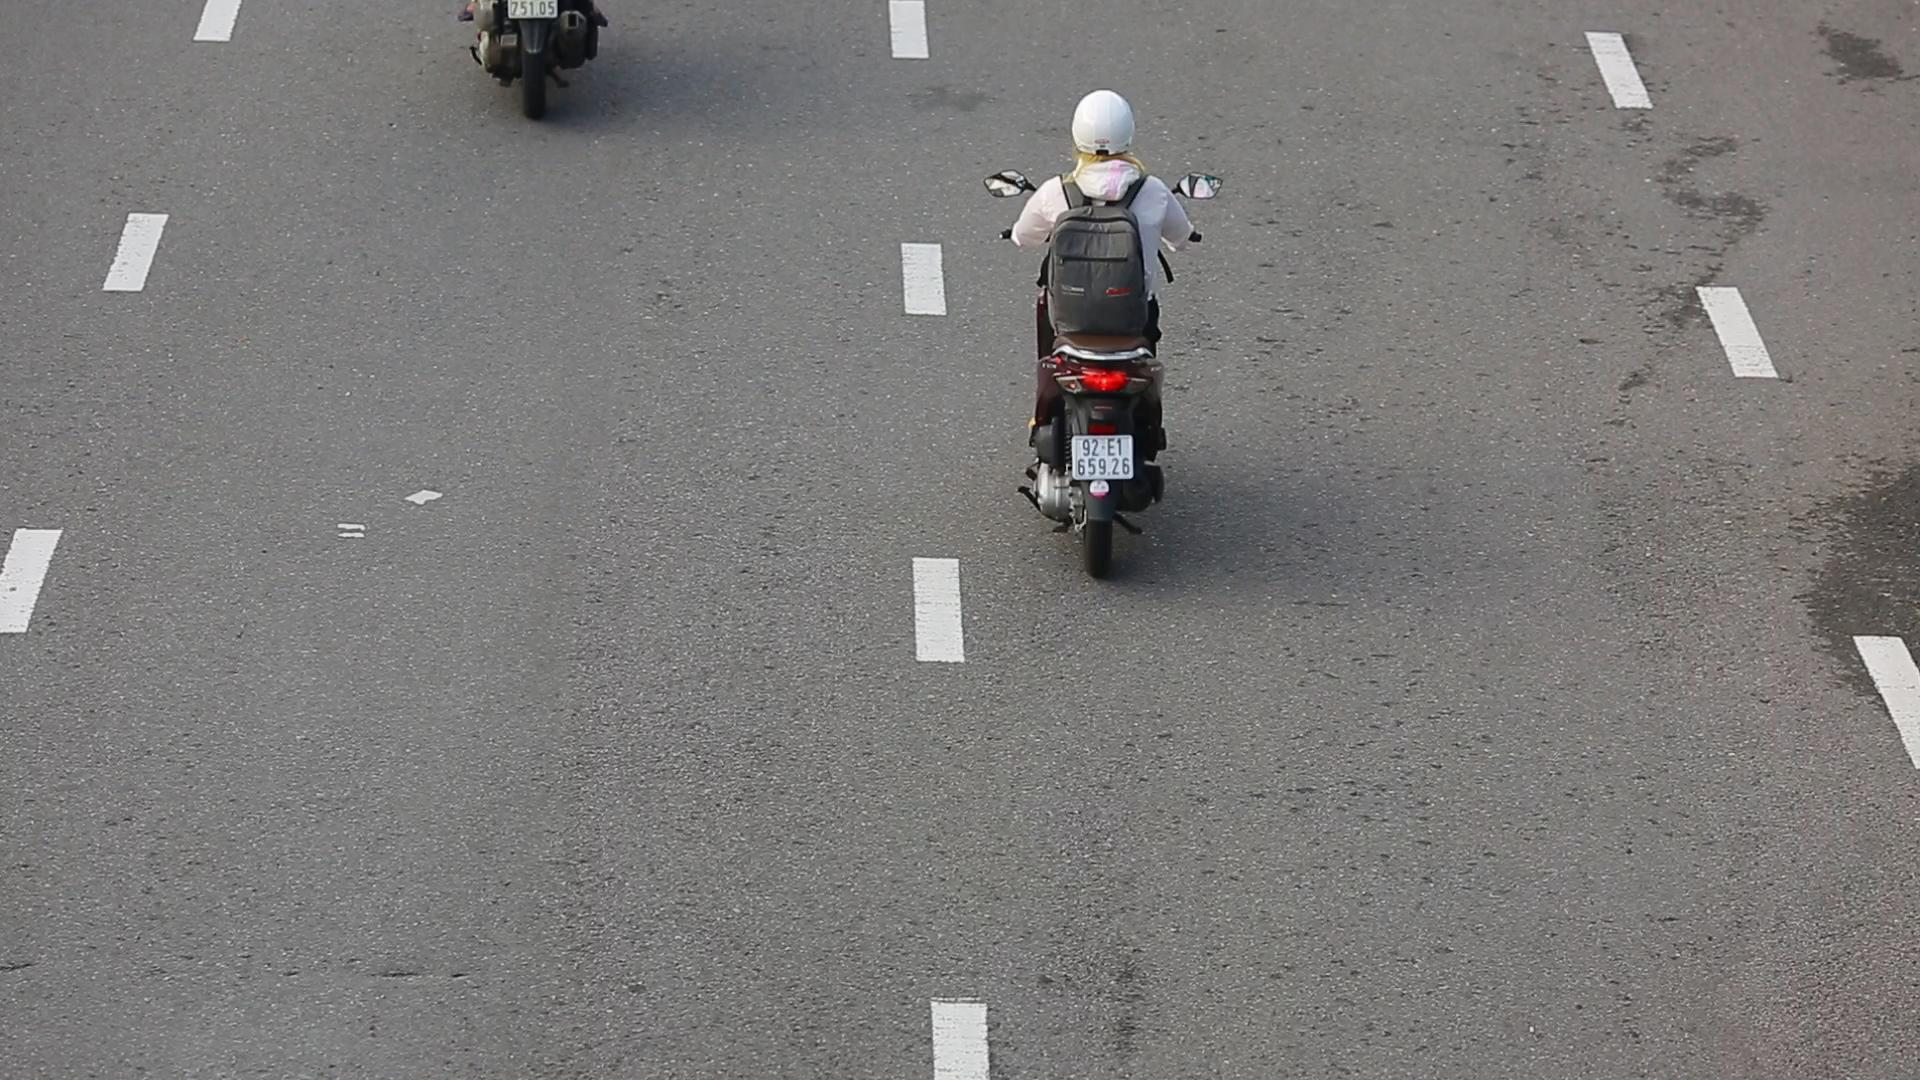motobike: (981, 82, 1207, 583)
